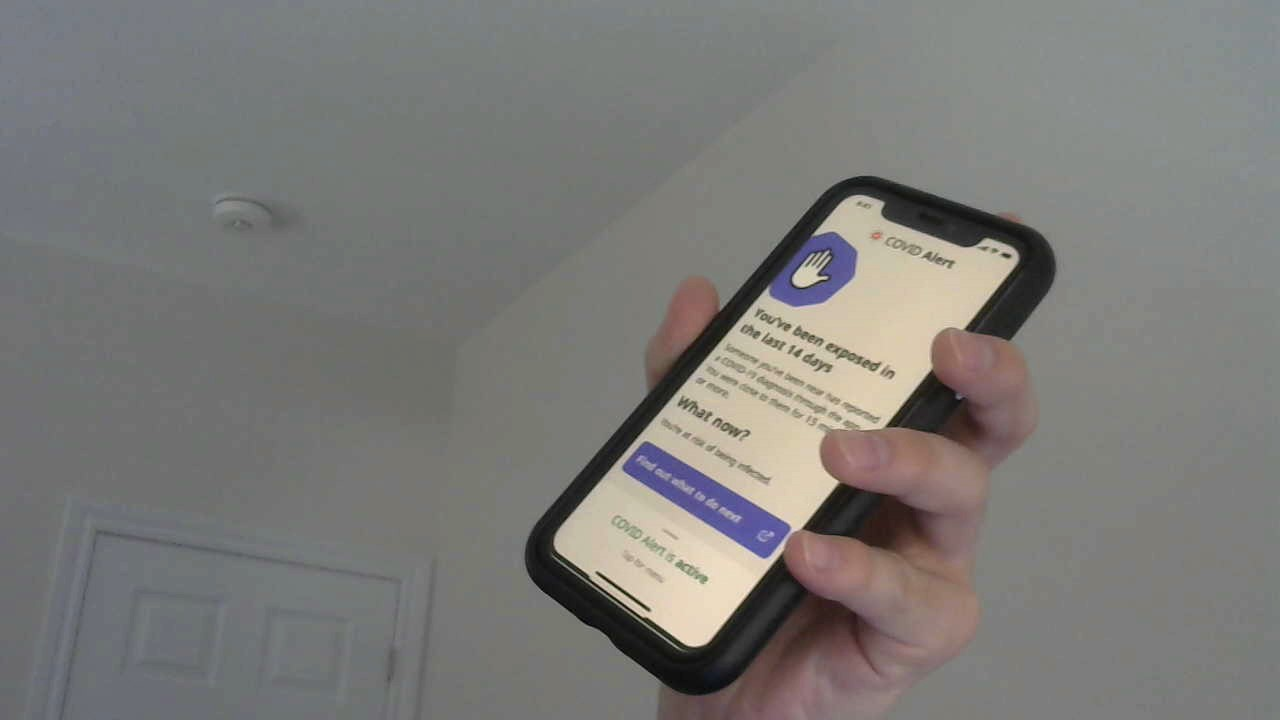Exposed: (719, 217, 924, 408)
